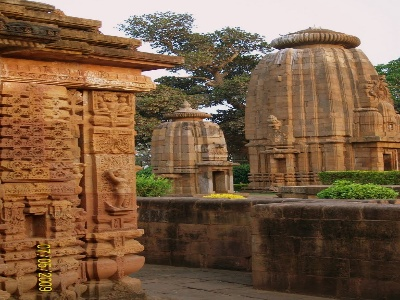amalaka: (264, 25, 368, 49), (161, 106, 214, 122)
gopuram: (235, 43, 396, 170), (146, 117, 233, 174)
